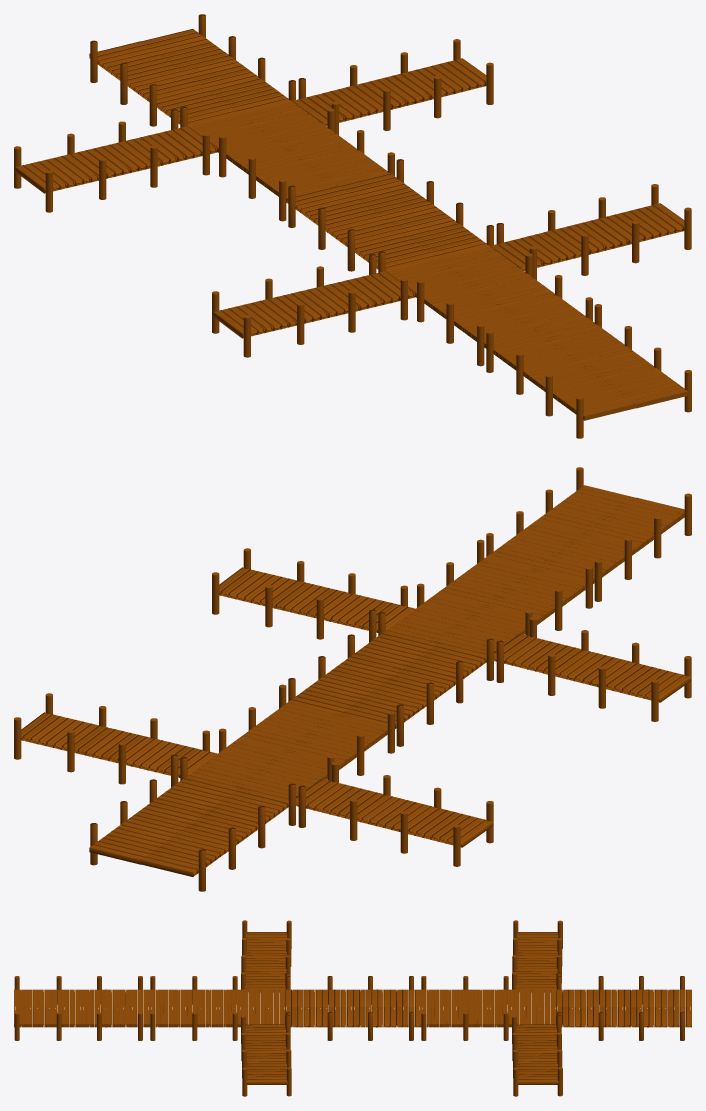
Rendered from docks2.fbx.
3 renders of one model, top to bottom at view 1: azimuth 30°, elevation 25°; view 2: azimuth 150°, elevation 25°; view 3: azimuth 270°, elevation 25°, orthographic. The views are drawn at different scales.
Visible parts, largest first — view 1: Cube.002, Cube.005, Cube.012, Cube.009, Cube.008, Cube.001, Cube.013, Cube.011, Cube.007, Cube.010, Cube.006, Cube.003 (+2 smaller); view 2: Cube.005, Cube.002, Cube.013, Cube.006, Cube.012, Cube.009, Cube.010, Cube.011, Cube.008, Cube.007, Cube.001, Cube.003 (+2 smaller); view 3: Cube.008, Cube.010, Cube.013, Cube.011, Cube.007, Cube.004, Cube.015, Cube.009, Cube.012, Cube.001, Cube.003, Cube.006 (+2 smaller).
Part boxes in pixels (x1,y1,x2,y2): Cube.002: (213, 271, 415, 338); Cube.005: (15, 126, 217, 193); Cube.012: (292, 58, 486, 125); Cube.009: (490, 203, 684, 270); Cube.008: (537, 318, 688, 408); Cube.001: (485, 331, 636, 420); Cube.013: (141, 29, 291, 114); Cube.011: (241, 101, 390, 186); Cube.007: (439, 246, 588, 331); Cube.010: (340, 174, 489, 259); Cube.006: (89, 41, 239, 126); Cube.003: (287, 186, 437, 271); Cube.005: (296, 778, 492, 847); Cube.002: (494, 634, 690, 702); Cube.013: (89, 775, 239, 864); Cube.006: (141, 787, 288, 876); Cube.012: (21, 712, 217, 777); Cube.009: (219, 567, 415, 632); Cube.010: (287, 630, 437, 715); Cube.011: (188, 702, 338, 788); Cube.008: (485, 485, 635, 571); Cube.007: (386, 558, 536, 643); Cube.001: (537, 497, 684, 583); Cube.003: (339, 642, 486, 728); Cube.008: (14, 1007, 149, 1027); Cube.010: (285, 1007, 420, 1027); Cube.013: (556, 1007, 691, 1027); Cube.011: (420, 1007, 556, 1027); Cube.007: (149, 1007, 285, 1027); Cube.004: (420, 989, 556, 1007); Cube.015: (149, 989, 285, 1007); Cube.009: (245, 1024, 287, 1084); Cube.012: (516, 1024, 558, 1084); Cube.001: (14, 989, 149, 1007); Cube.003: (285, 989, 420, 1007); Cube.006: (556, 989, 691, 1007).
Bounding box in the file's own units: 34578 × 2894 × 66096.
